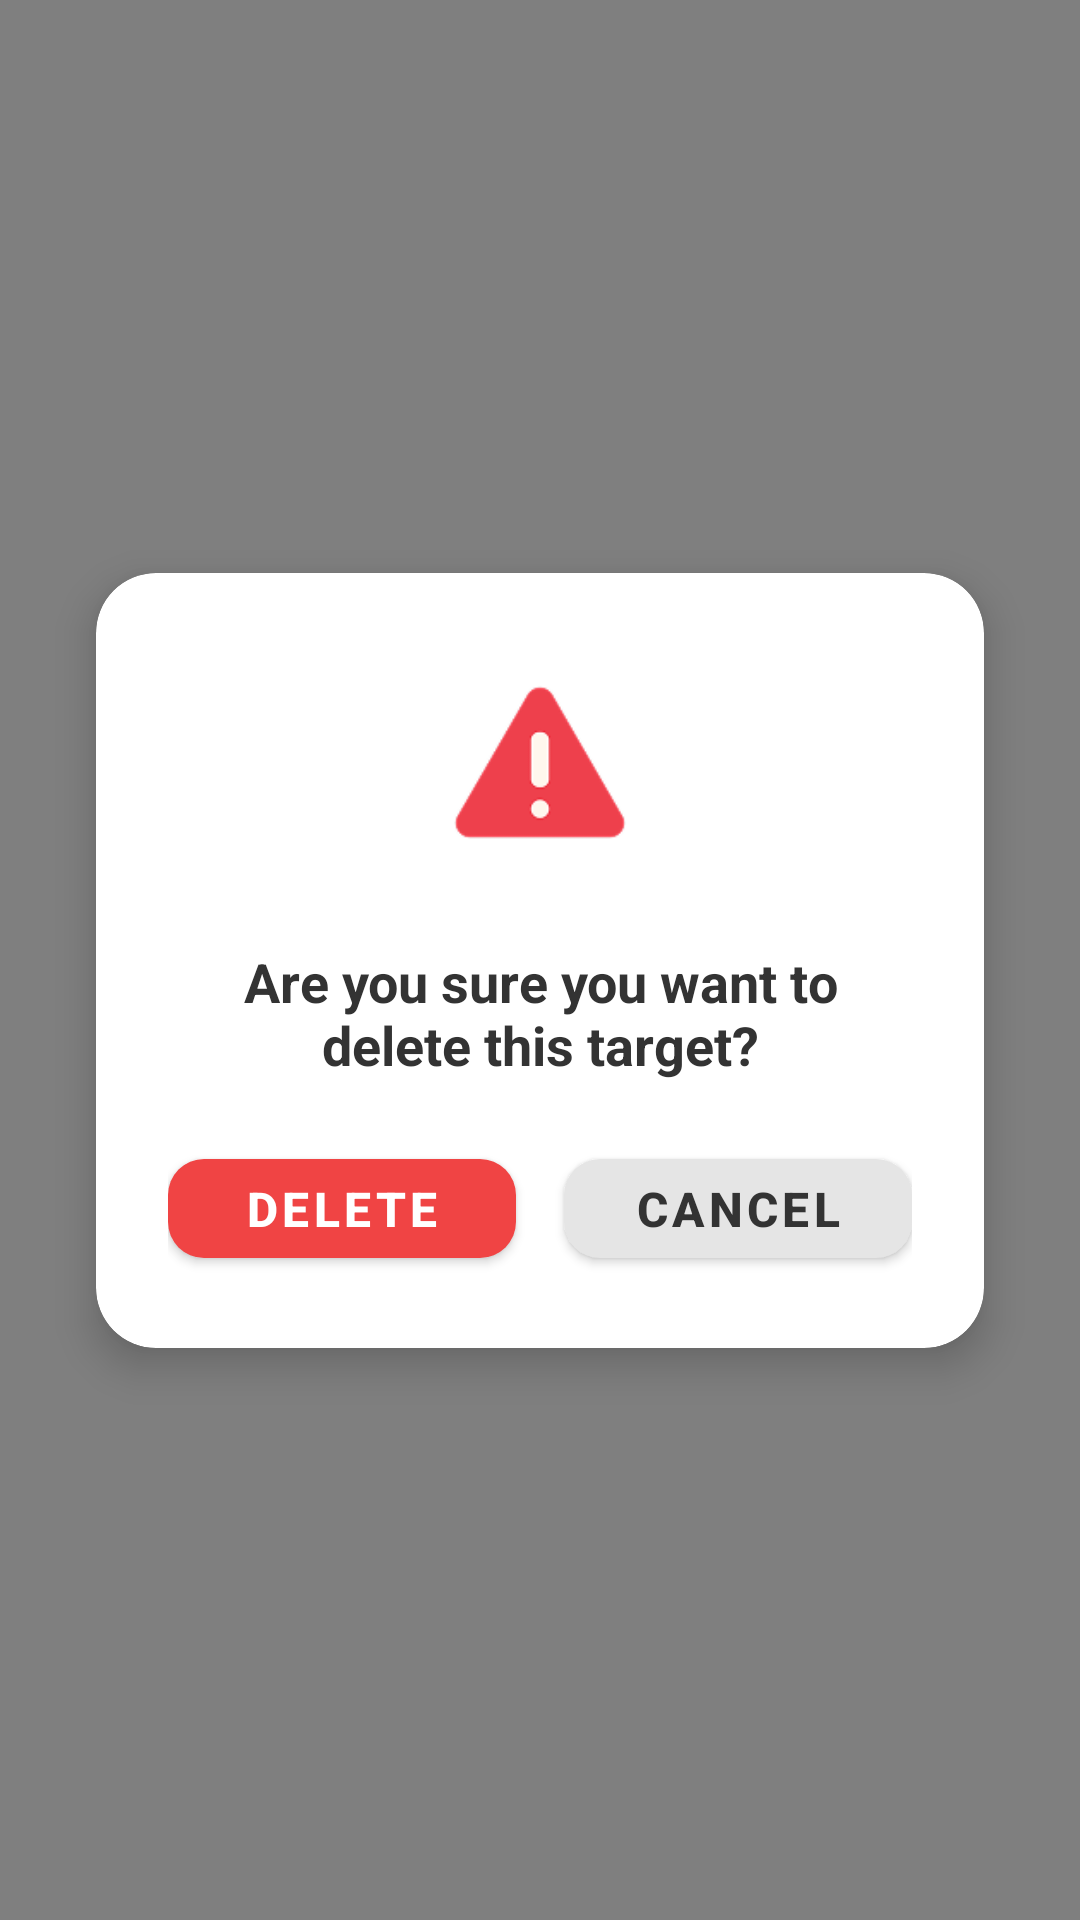

Named icons in this screenshot (1080 x 1920) and their bounding boxes, {"left": x1, "top": y1, "right": x2, "bottom": y2}:
Delete Warning: {"left": 455, "top": 687, "right": 625, "bottom": 838}
